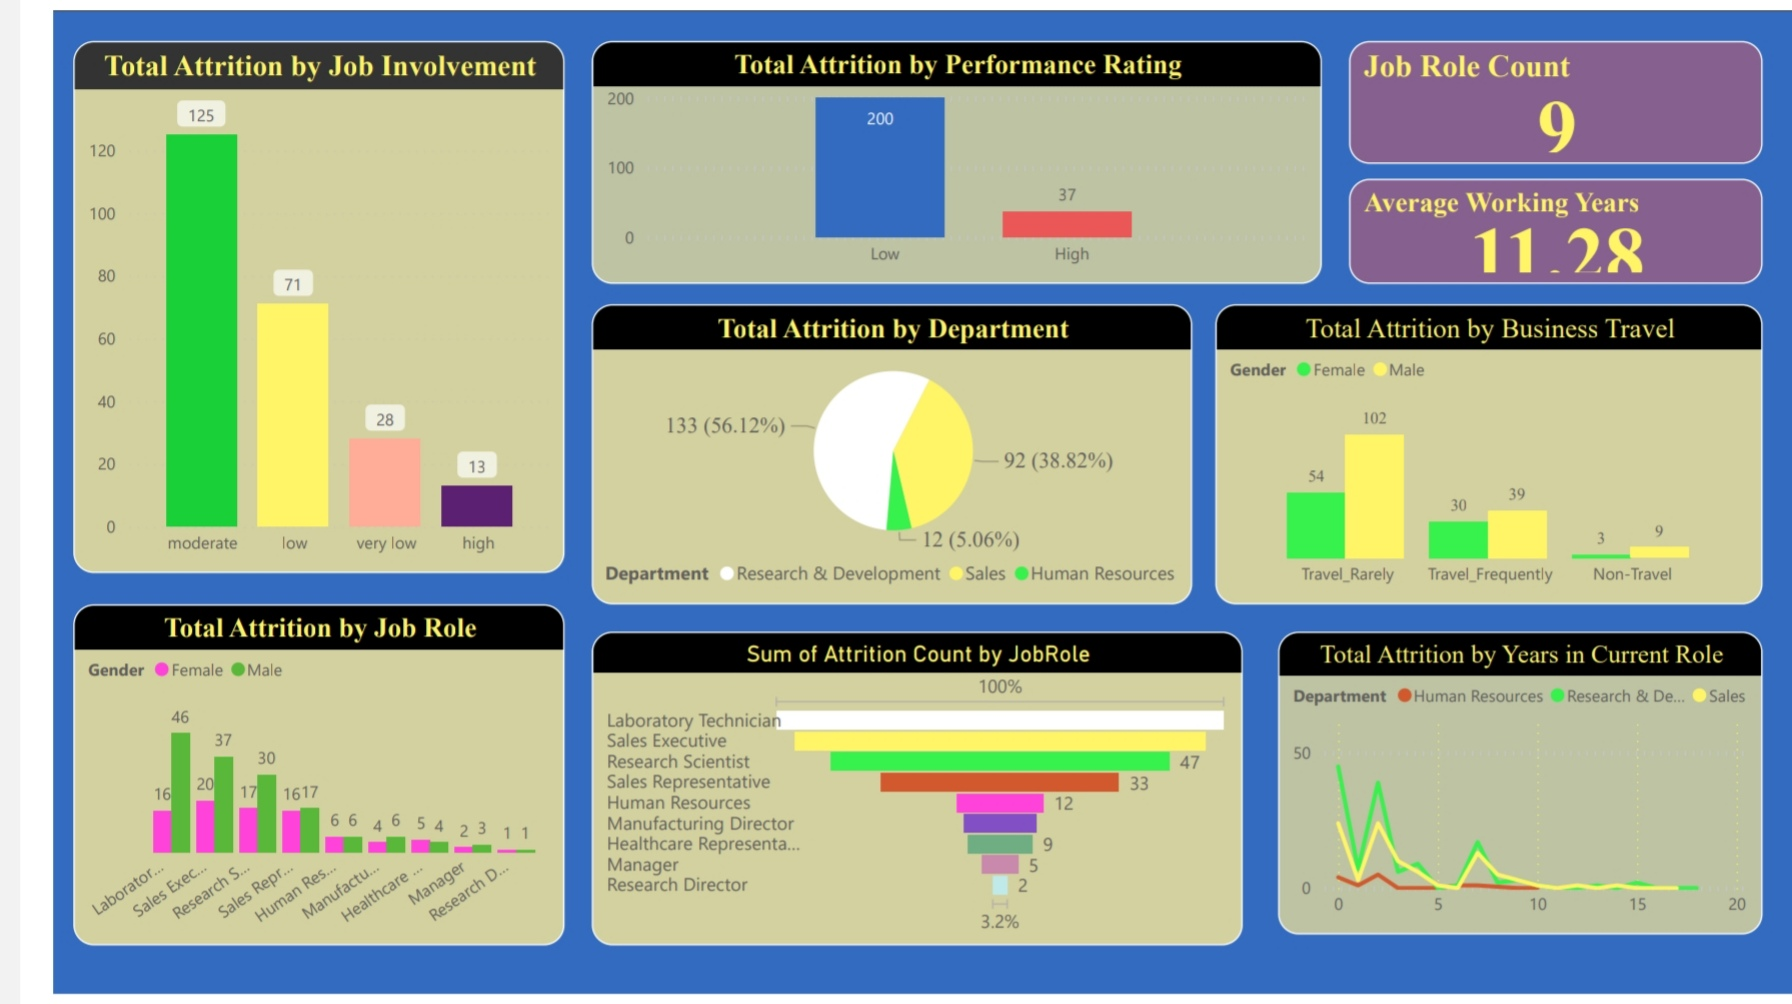

The page's visual inventory and layout, read from the dashboard file:
{"tool":"powerbi","page":{"name":"HR Attrition analysis page 2","canvas":[1280,720],"ordinal":1},"visuals":[{"type":"clusteredColumnChart","title":"Total Attrition by Job Role","fields":{"Category":["HR-Employee-Attrition.JobRole"],"Series":["HR-Employee-Attrition.Gender"],"Y":["Sum(HR-Employee-Attrition.Attrition Count)"]},"box":[15,435,360,250],"z":0},{"type":"clusteredColumnChart","title":"Total Attrition by Business Travel","fields":{"Category":["HR-Employee-Attrition.BusinessTravel"],"Series":["HR-Employee-Attrition.Gender"],"Y":["Sum(HR-Employee-Attrition.Attrition Count)"]},"box":[851.7,215,401.7,220],"z":1000},{"type":"pieChart","title":"Total Attrition by Department","fields":{"Y":["Sum(HR-Employee-Attrition.Attrition Count)"],"Category":["HR-Employee-Attrition.Department"]},"box":[395,215,440,220],"z":2000},{"type":"lineChart","title":"Total Attrition by Years in Current Role","fields":{"Category":["HR-Employee-Attrition.YearsInCurrentRole"],"Series":["HR-Employee-Attrition.Department"],"Y":["Sum(HR-Employee-Attrition.Attrition Count)"]},"box":[898.3,455,355,221.7],"z":3000},{"type":"funnel","fields":{"Category":["HR-Employee-Attrition.JobRole"],"Y":["Sum(HR-Employee-Attrition.Attrition Count)"]},"box":[395,455,476.7,230],"z":4000},{"type":"card","title":"Average Working Years","fields":{"Values":["Avg(HR-Employee-Attrition.TotalWorkingYears)"]},"box":[950,123.3,303.3,76.7],"z":5000},{"type":"card","title":"Job Role Count","fields":{"Values":["Count(HR-Employee-Attrition.JobRole)"]},"box":[950,21.7,303.3,90],"z":6000},{"type":"lineClusteredColumnComboChart","title":"Total Attrition by Job Involvement","fields":{"Category":["HR-Employee-Attrition.JobInvolvement (groups)"],"Y":["Sum(HR-Employee-Attrition.Attrition Count)"]},"box":[15,21.7,360,390],"z":7000},{"type":"columnChart","title":"Total Attrition by Performance Rating","fields":{"Y":["Sum(HR-Employee-Attrition.Attrition Count)"],"Category":["HR-Employee-Attrition.PerformanceRating (groups)"]},"box":[395,21.7,535,178.3],"z":7001}]}

Visuals, with their boxes in screenshot pixels (x1, y1, x2, y2), scaled from the page's 1280x720 canvas onto the 1792x1004 screenshot:
"Total Attrition by Job Role" clusteredColumnChart: bbox=(21, 607, 525, 955)
"Total Attrition by Business Travel" clusteredColumnChart: bbox=(1192, 300, 1755, 607)
"Total Attrition by Department" pieChart: bbox=(553, 300, 1169, 607)
"Total Attrition by Years in Current Role" lineChart: bbox=(1258, 634, 1755, 944)
funnel - HR-Employee-Attrition.JobRole x Sum(HR-Employee-Attrition.Attrition Count): bbox=(553, 634, 1220, 955)
"Average Working Years" card: bbox=(1330, 172, 1755, 279)
"Job Role Count" card: bbox=(1330, 30, 1755, 156)
"Total Attrition by Job Involvement" lineClusteredColumnComboChart: bbox=(21, 30, 525, 574)
"Total Attrition by Performance Rating" columnChart: bbox=(553, 30, 1302, 279)
